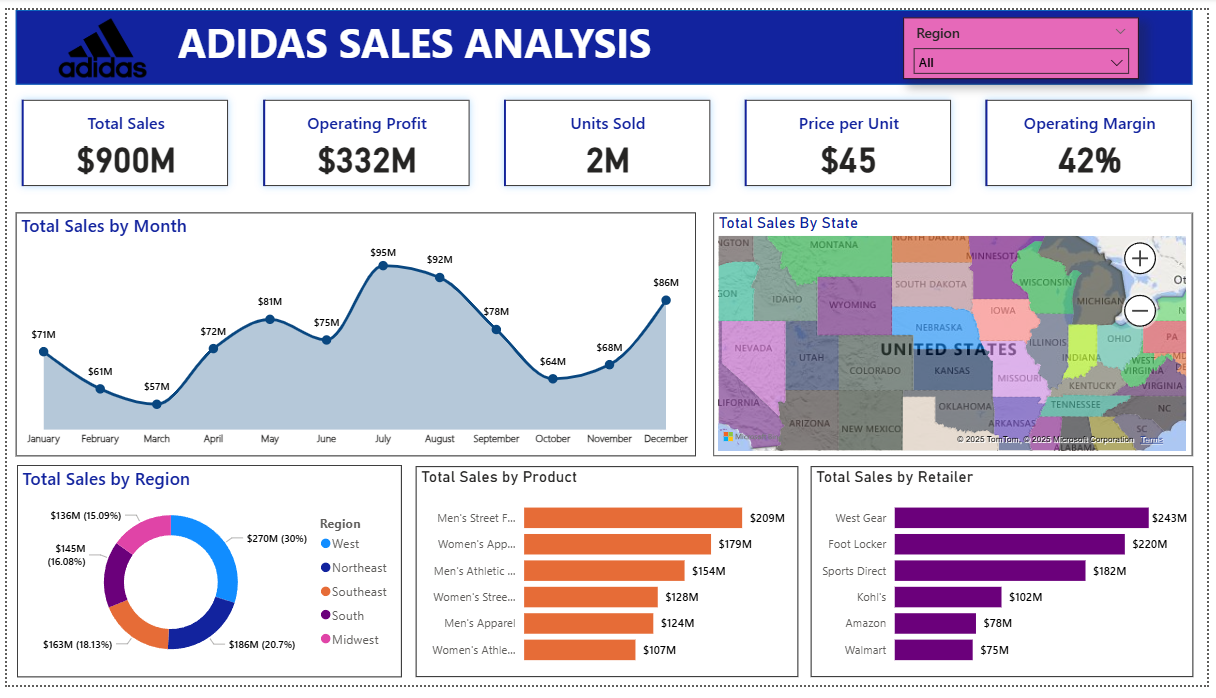

The page's visual inventory and layout, read from the dashboard file:
{"tool":"powerbi","page":{"name":"Page 1","canvas":[1280,720],"ordinal":0},"visuals":[{"type":"shape","box":[10,0,1255.2,79.6],"z":0},{"type":"textbox","box":[177.9,0,735.2,69.7],"z":1000},{"type":"cardVisual","fields":{"Data":["Sum(Data Sales Adidas.Total Sales)","Sum(Data Sales Adidas.Operating Profit)","Sum(Data Sales Adidas.Units Sold)","Avg(Data Sales Adidas.Price per Unit)","Avg(Data Sales Adidas.Operating Margin)"]},"box":[0,79.6,1280,124.4],"z":2000},{"type":"areaChart","title":"Total Sales by Month","fields":{"Category":["Data Sales Adidas.Invoice Date.Variation.Date Hierarchy.Month"],"Y":["Sum(Data Sales Adidas.Total Sales)"]},"box":[10,216.4,725.2,260],"z":3000},{"type":"filledMap","title":"Total Sales By State","fields":{"Category":["Data Sales Adidas.State"],"Series":["Data Sales Adidas.Total Sales"]},"box":[753.8,216.4,511.3,260],"z":4000},{"type":"donutChart","title":"Total Sales by Region","fields":{"Category":["Data Sales Adidas.Region"],"Y":["Sum(Data Sales Adidas.Total Sales)"]},"box":[10,485.7,410,226],"z":5000},{"type":"barChart","title":"Total Sales by Product","fields":{"Category":["Data Sales Adidas.Product"],"Y":["Sum(Data Sales Adidas.Total Sales)"]},"box":[436.6,486.4,408,225.2],"z":6000},{"type":"barChart","title":"Total Sales by Retailer","fields":{"Category":["Data Sales Adidas.Retailer"],"Y":["Sum(Data Sales Adidas.Total Sales)"]},"box":[857.1,486.4,408,225.2],"z":7000},{"type":"slicer","fields":{"Values":["Data Sales Adidas.Region"]},"box":[955.4,7.5,251.3,65.9],"z":8000},{"type":"image","box":[43.5,3.7,115.7,73.4],"z":8001}]}

Visuals, with their boxes in screenshot pixels (x1, y1, x2, y2), scaled from the page's 1280x720 canvas onto the 1216x698 screenshot:
shape: detection(10, 0, 1202, 77)
textbox: detection(169, 0, 867, 68)
cardVisual - Sum(Data Sales Adidas.Total Sales) x Sum(Data Sales Adidas.Operating Profit): detection(0, 77, 1215, 198)
"Total Sales by Month" areaChart: detection(10, 210, 698, 462)
"Total Sales By State" filledMap: detection(716, 210, 1202, 462)
"Total Sales by Region" donutChart: detection(10, 471, 399, 690)
"Total Sales by Product" barChart: detection(415, 472, 802, 690)
"Total Sales by Retailer" barChart: detection(814, 472, 1202, 690)
slicer - Data Sales Adidas.Region: detection(908, 7, 1146, 71)
image: detection(41, 4, 151, 75)
